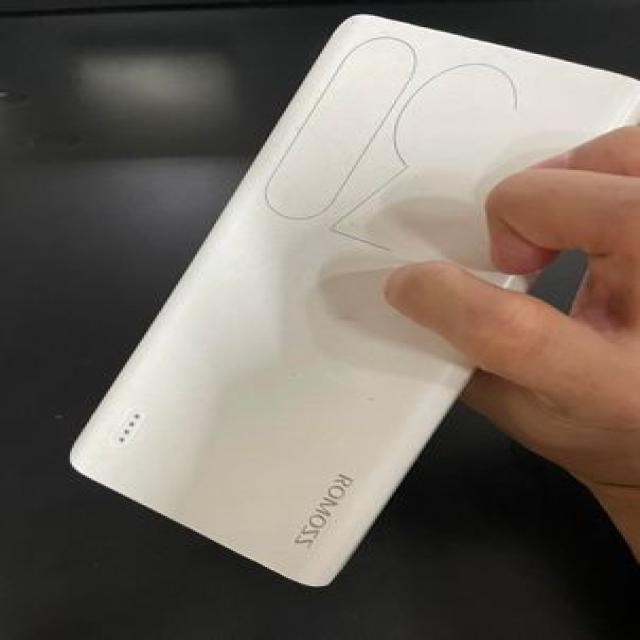power_bank: (57, 9, 640, 592)
